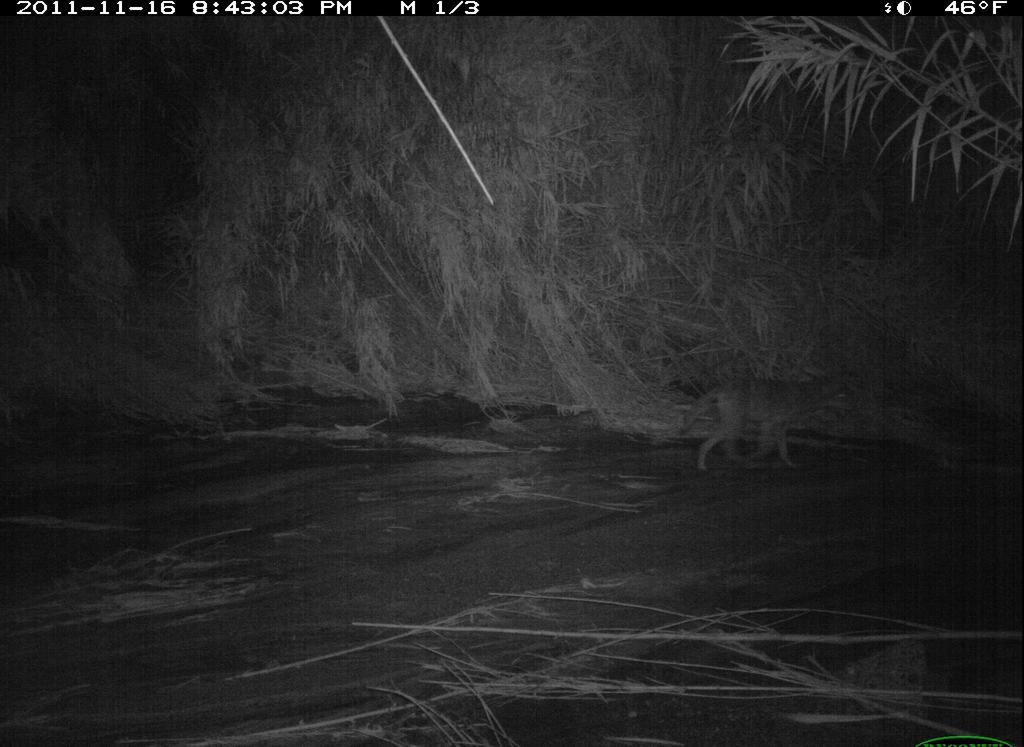coyote: (670, 369, 861, 483)
